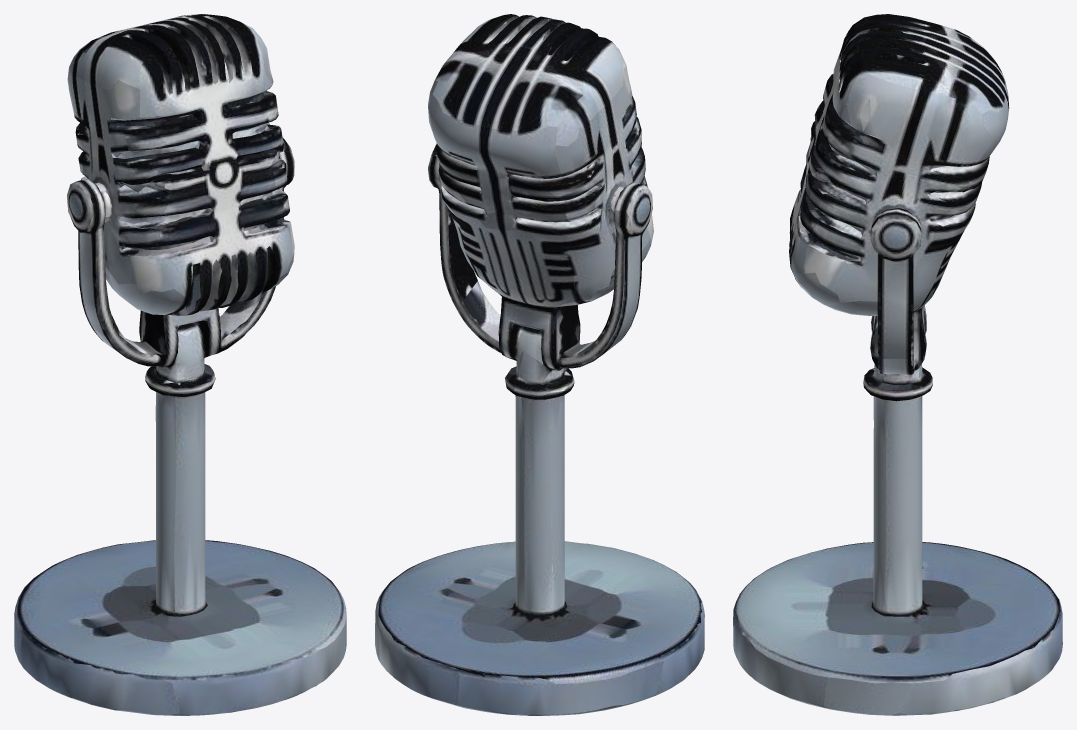
The model's file is mic_stand.glb.
3 renders of one model, left to right at view 1: azimuth 30°, elevation 25°; view 2: azimuth 150°, elevation 25°; view 3: azimuth 270°, elevation 25°, orthographic.
Visible parts, largest first — view 1: mic_stand4; view 2: mic_stand4; view 3: mic_stand4.
Boxes of the visible parts, x1,y1,x2,y2 form: mic_stand4: (14, 14, 346, 715); mic_stand4: (375, 14, 704, 715); mic_stand4: (733, 14, 1062, 715).
Size of the model in its own units: 0.4864 by 1 by 0.4857.
Materials: 1 (1 with a texture image).
